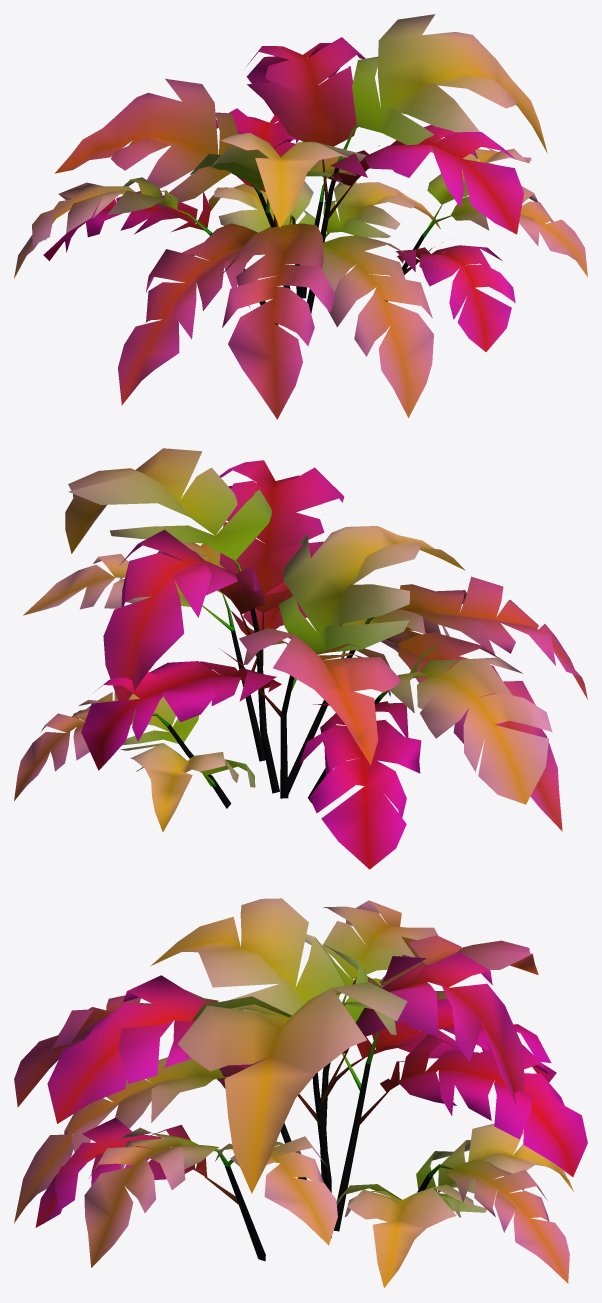
File: SM_EagleFern_S_01.fbx
3 renders of one model, top to bottom at view 1: azimuth 30°, elevation 25°; view 2: azimuth 150°, elevation 25°; view 3: azimuth 270°, elevation 25°, orthographic. The views are drawn at different scales.
Parts seen in each view (by area): view 1: SM_EagleFern_S_01_LOD0; view 2: SM_EagleFern_S_01_LOD0; view 3: SM_EagleFern_S_01_LOD0.
Part boxes in pixels (x1,y1,x2,y2): SM_EagleFern_S_01_LOD0: (14,14,587,419); SM_EagleFern_S_01_LOD0: (14,448,587,869); SM_EagleFern_S_01_LOD0: (14,898,587,1287).
Bounding box in the file's own units: 106 × 85.99 × 54.38.
